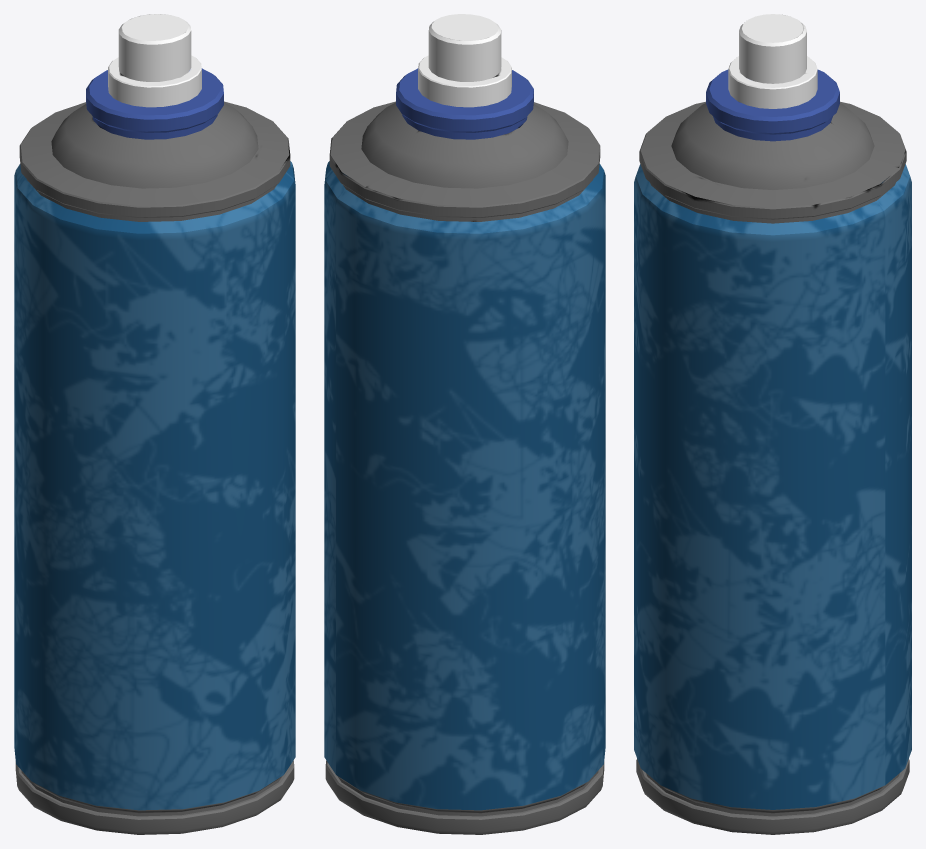
Rendered from Spray_can_01 (1).fbx.
3 views of the same model, side by side, from view 1: azimuth 30°, elevation 25°; view 2: azimuth 150°, elevation 25°; view 3: azimuth 270°, elevation 25° (orthographic).
Parts seen in each view (by area): view 1: pCylinder2; view 2: pCylinder2; view 3: pCylinder2.
Part boxes in pixels (bbox=[...]): pCylinder2: bbox=[14, 14, 295, 834]; pCylinder2: bbox=[324, 14, 605, 834]; pCylinder2: bbox=[634, 14, 911, 834].
Bounding box in the file's own units: 8.43 × 24.52 × 8.24.
Materials: 1 (1 with a texture image).
